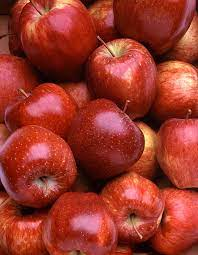apple: (43, 191, 118, 255)
